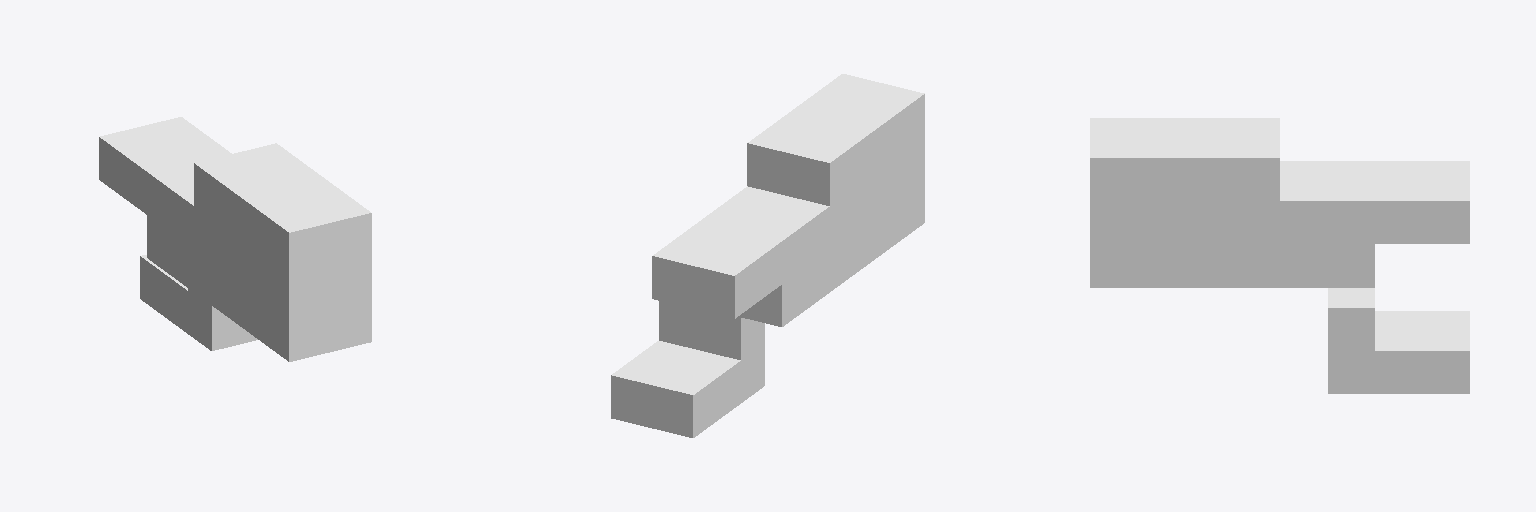
Rendered from PotParticle.obj.
The picture shows the model from 3 angles: view 1: azimuth 30°, elevation 25°; view 2: azimuth 150°, elevation 25°; view 3: azimuth 270°, elevation 25°; orthographic projection.
Parts seen in each view (by area): view 1: object 1; view 2: object 1; view 3: object 1.
Boxes of the visible parts, <box> form: object 1: <box>99,117,371,361</box>; object 1: <box>611,74,924,437</box>; object 1: <box>1090,118,1469,393</box>.
Bounding box in the file's own units: 0.3 × 0.5 × 0.8.